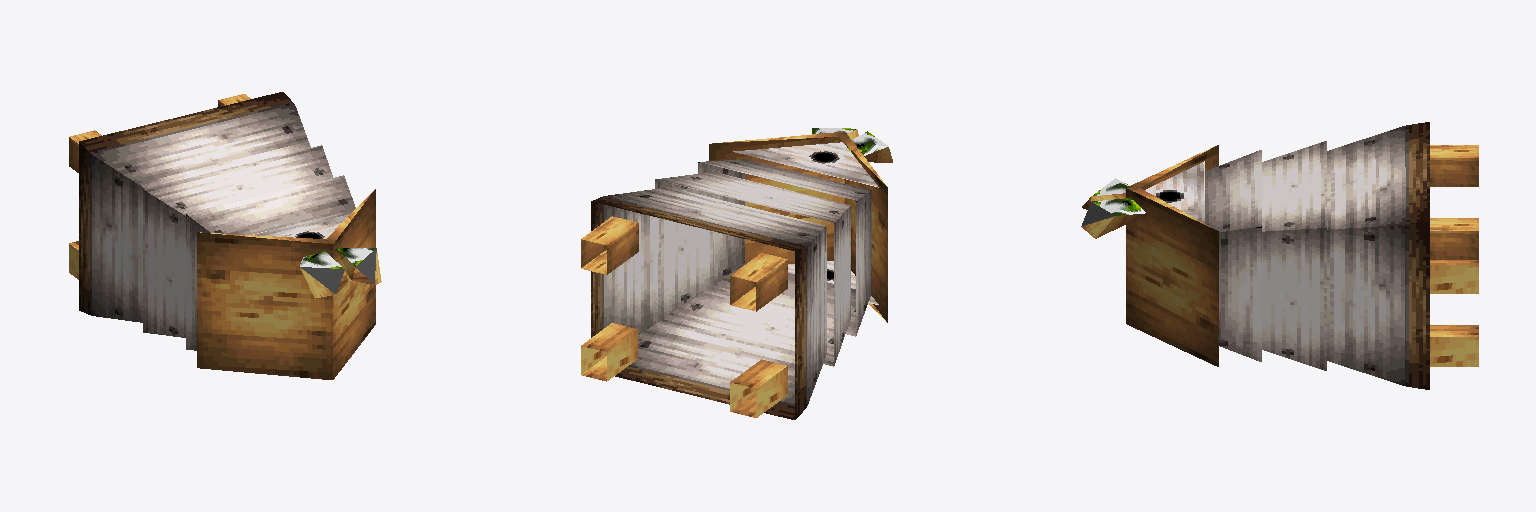
The picture shows the model from 3 angles: view 1: azimuth 30°, elevation 25°; view 2: azimuth 150°, elevation 25°; view 3: azimuth 270°, elevation 25°; orthographic projection.
Parts seen in each view (by area): view 1: honey; view 2: honey; view 3: honey.
Part boxes in pixels (x1,y1,x2,y2): honey: (69,92,381,379); honey: (581,128,892,419); honey: (1081,122,1478,389).
Bounding box in the file's own units: 4.64 × 3.68 × 7.84.
7 materials, 4 textured.